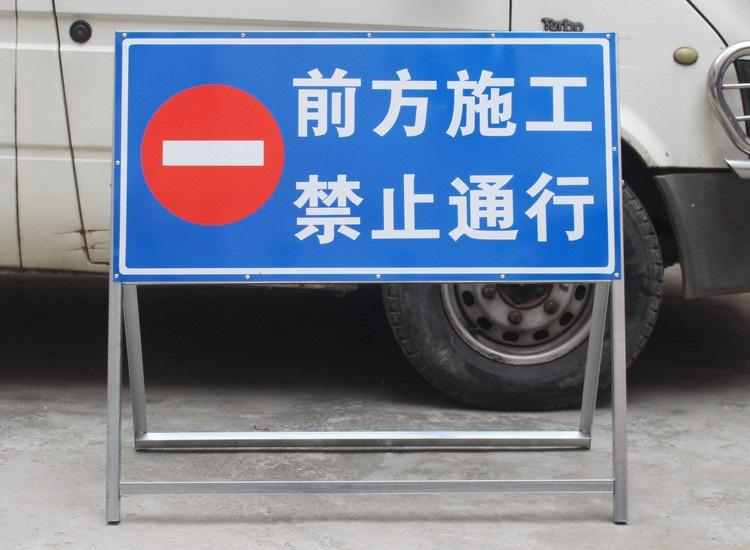sign: (115, 31, 631, 287)
